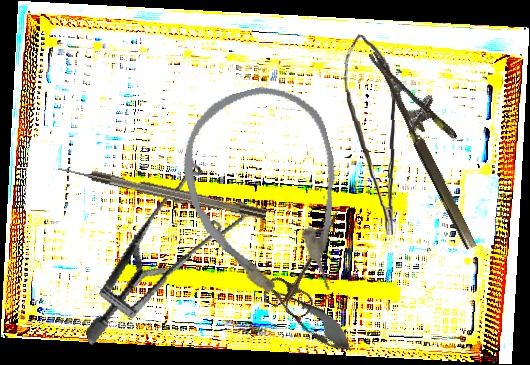Cannula: (167, 73, 367, 319)
Hook Surgical: (56, 161, 268, 222)
Iris Scissors: (260, 199, 357, 322)
Micro Scissor: (340, 33, 402, 237), (248, 267, 361, 361)
Needle Holder: (368, 35, 504, 252)
Speculum: (47, 147, 274, 347)
